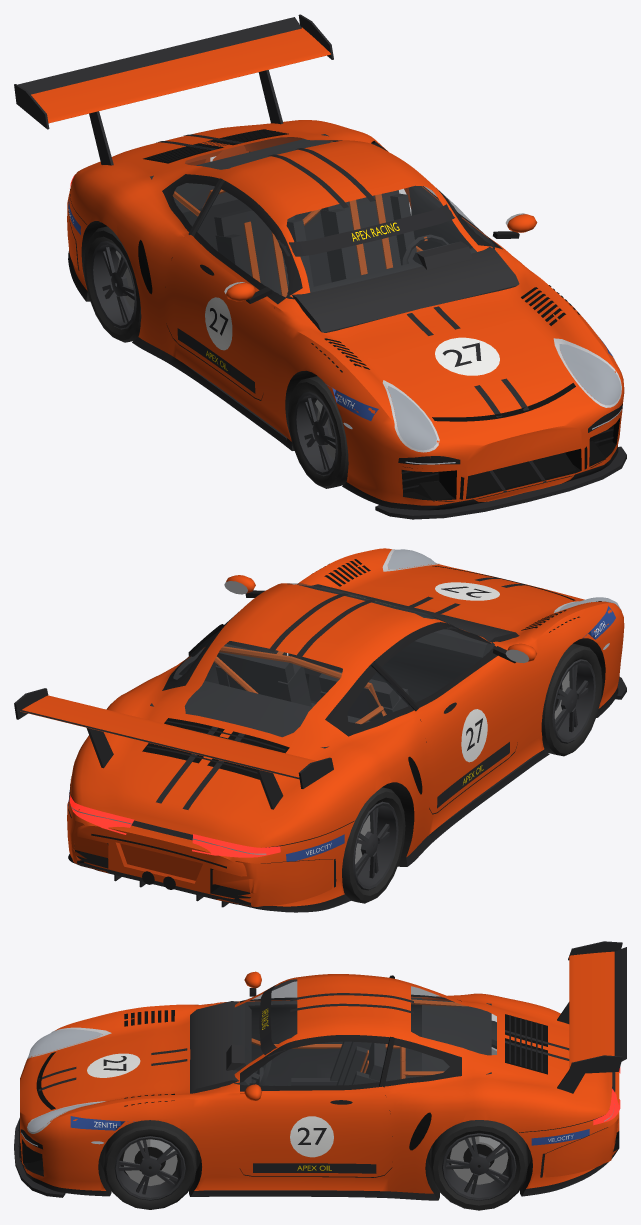
The picture shows the model from 3 angles, top to bottom: view 1: azimuth 30°, elevation 25°; view 2: azimuth 150°, elevation 25°; view 3: azimuth 270°, elevation 25°; orthographic projection. The views are drawn at different scales.
Parts seen in each view (by area): view 1: GT3RS_Body, GT3RS_Interior, GT3RS_Aero, GT3RS_Glass, GT3RS_Details, GT3RS_Livery, GT3RS_Wheel_FR, GT3RS_Wheel_RR, GT3RS_Trim; view 2: GT3RS_Body, GT3RS_Interior, GT3RS_Glass, GT3RS_Details, GT3RS_Aero, GT3RS_Livery, GT3RS_Wheel_RR, GT3RS_Wheel_FR, GT3RS_Trim; view 3: GT3RS_Body, GT3RS_Interior, GT3RS_Glass, GT3RS_Aero, GT3RS_Details, GT3RS_Livery, GT3RS_Wheel_RL, GT3RS_Wheel_FL, GT3RS_Trim.
Boxes of the visible parts, <box> form: GT3RS_Body: <box>68,120,624,510</box>; GT3RS_Interior: <box>150,134,519,332</box>; GT3RS_Aero: <box>14,14,626,519</box>; GT3RS_Glass: <box>173,137,494,298</box>; GT3RS_Details: <box>67,129,622,501</box>; GT3RS_Livery: <box>68,134,613,420</box>; GT3RS_Wheel_FR: <box>288,376,348,488</box>; GT3RS_Wheel_RR: <box>84,226,141,342</box>; GT3RS_Trim: <box>188,140,537,303</box>; GT3RS_Body: <box>68,548,624,912</box>; GT3RS_Interior: <box>150,584,519,748</box>; GT3RS_Glass: <box>173,583,494,736</box>; GT3RS_Details: <box>67,549,621,906</box>; GT3RS_Aero: <box>14,676,626,907</box>; GT3RS_Livery: <box>68,577,615,861</box>; GT3RS_Wheel_RR: <box>342,787,405,903</box>; GT3RS_Wheel_FR: <box>541,643,602,756</box>; GT3RS_Trim: <box>142,575,536,889</box>; GT3RS_Body: <box>20,974,619,1200</box>; GT3RS_Interior: <box>190,979,491,1149</box>; GT3RS_Glass: <box>233,979,496,1085</box>; GT3RS_Aero: <box>14,941,626,1197</box>; GT3RS_Details: <box>18,1010,620,1177</box>; GT3RS_Livery: <box>38,983,589,1173</box>; GT3RS_Wheel_RL: <box>430,1120,527,1210</box>; GT3RS_Wheel_FL: <box>103,1120,196,1209</box>; GT3RS_Trim: <box>244,971,394,1100</box>.
Bounding box in the file's own units: 2.19 × 1.32 × 4.58.
